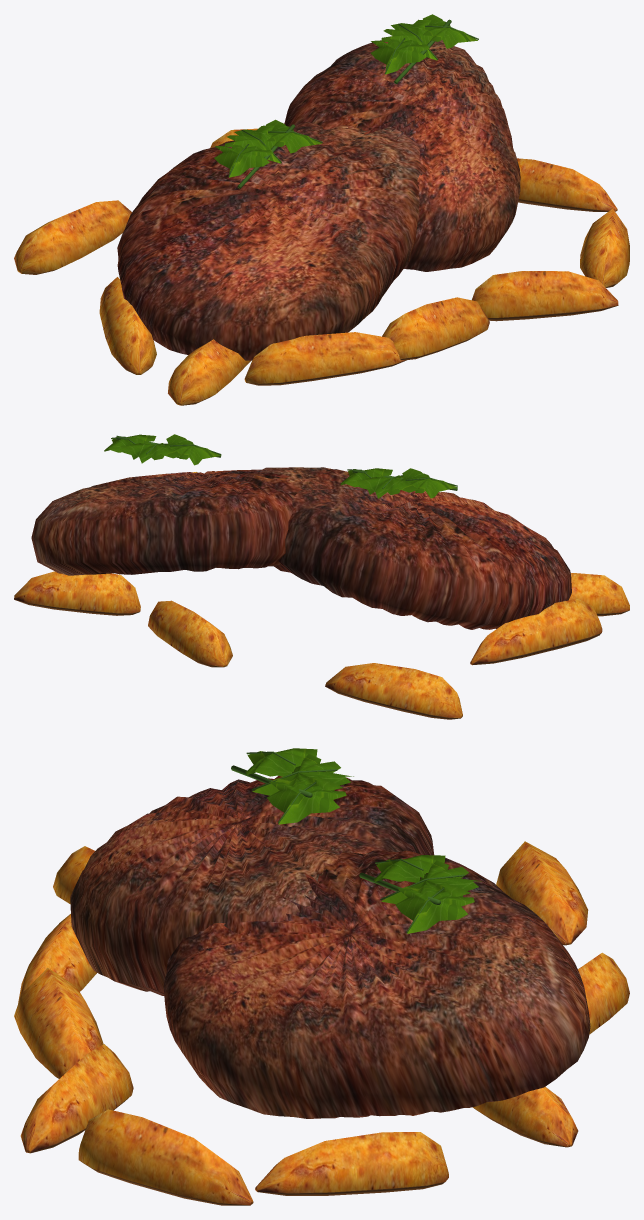
Rendered from food-serving-fast.glb.
The picture shows the model from 3 angles, top to bottom: view 1: azimuth 30°, elevation 25°; view 2: azimuth 150°, elevation 25°; view 3: azimuth 270°, elevation 25°; orthographic projection. The views are drawn at different scales.
Parts seen in each view (by area): view 1: DEMIAND cooked steak potatoes and parsley; view 2: DEMIAND cooked steak potatoes and parsley; view 3: DEMIAND cooked steak potatoes and parsley.
Boxes of the visible parts, left/top/right/bottom form: DEMIAND cooked steak potatoes and parsley: left=14, top=14, right=629, bottom=405; DEMIAND cooked steak potatoes and parsley: left=14, top=434, right=629, bottom=719; DEMIAND cooked steak potatoes and parsley: left=14, top=748, right=629, bottom=1205.
Bounding box in the file's own units: 0.16 × 0.055 × 0.12.
Materials: 5 (3 with a texture image).
